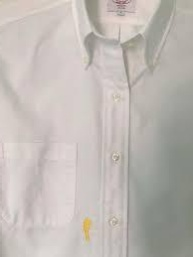mustard: (83, 214, 97, 238)
